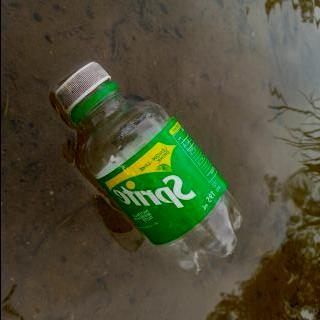bottle: (52, 61, 242, 276)
